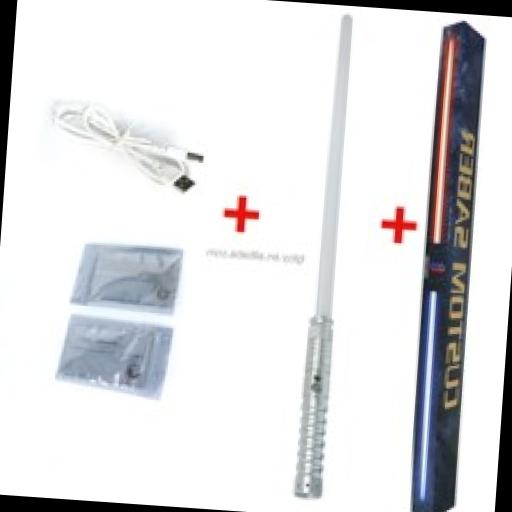lightsaber: (283, 12, 362, 501)
